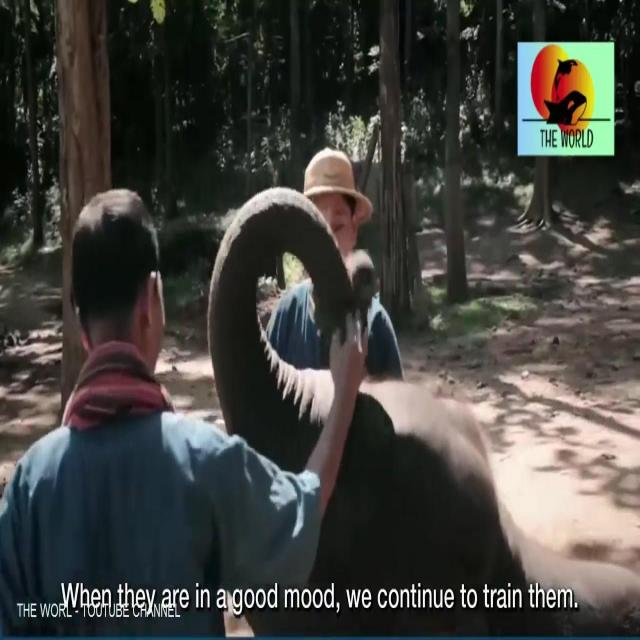Elephant: (215, 179, 520, 617)
